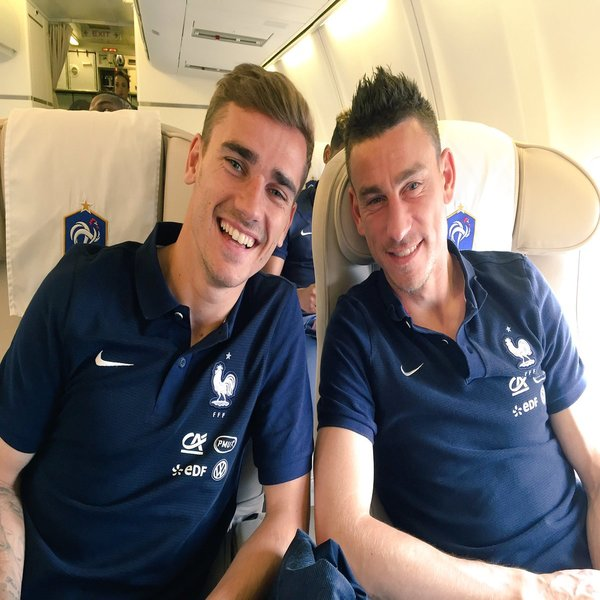nike: (91, 345, 134, 375), (399, 362, 434, 385)
